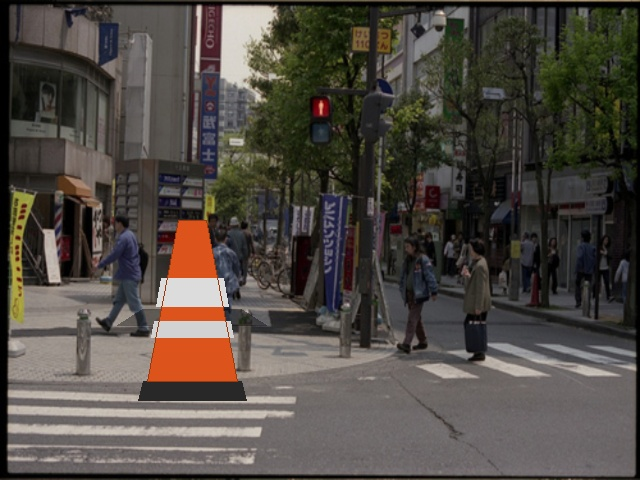traffic-cone: (138, 220, 246, 400)
